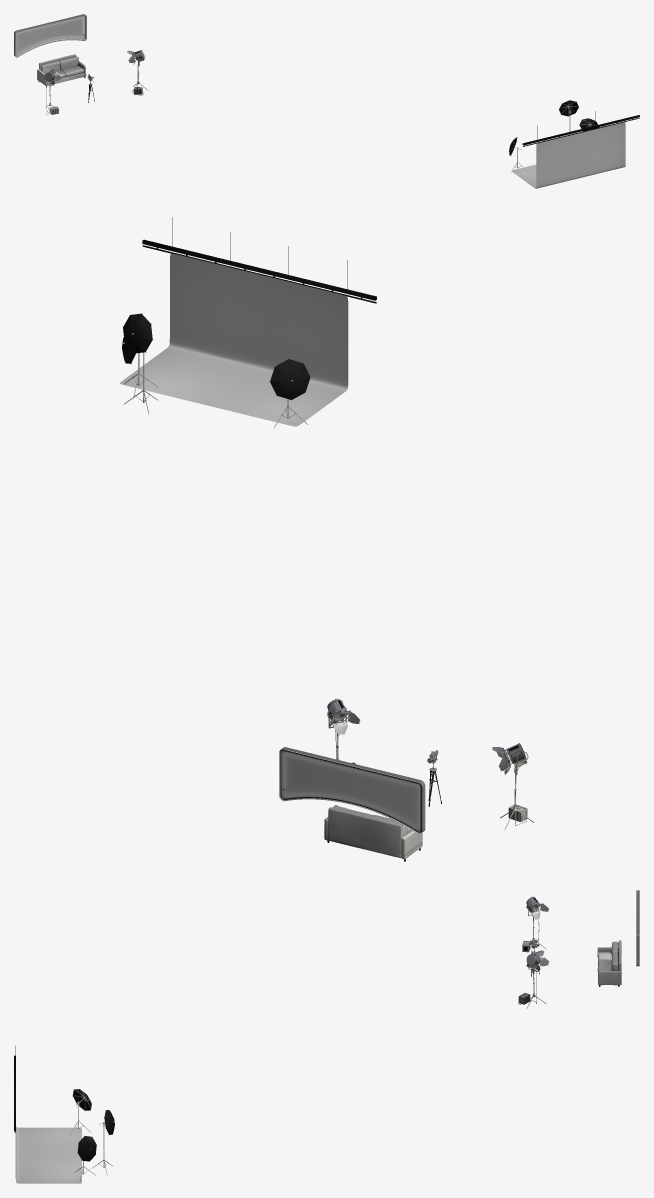
File: 20220601shooting.gltf
3 views of the same model, one above another, from view 1: azimuth 30°, elevation 25°; view 2: azimuth 150°, elevation 25°; view 3: azimuth 270°, elevation 25° (orthographic). The views are drawn at different scales.
Visible parts, largest first — view 1: Horizont+Button, Neon Outer, Sofa, ARRI, RefrectedLight; view 2: Horizont+Button, Neon Outer, Sofa, RefrectedLight, ARRI; view 3: Horizont+Button, RefrectedLight, ARRI, Sofa.
Boxes of the visible parts, x1,y1,x2,y2 form: Horizont+Button: (512,111,639,188); Neon Outer: (14,14,86,57); Sofa: (37,54,86,87); ARRI: (44,50,147,114); RefrectedLight: (509,100,599,171); Horizont+Button: (120,217,376,426); Neon Outer: (279,747,425,833); Sofa: (324,805,422,861); RefrectedLight: (122,313,310,428); ARRI: (327,698,533,830); Horizont+Button: (14,1046,81,1183); RefrectedLight: (69,1089,114,1181); ARRI: (518,896,549,1008); Sofa: (597,940,621,986).
Bounding box in the file's own units: 27.06 × 4.22 × 28.92.
Materials: 6 (6 with a texture image).
